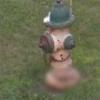a fire hydrant: (40, 3, 76, 91)
